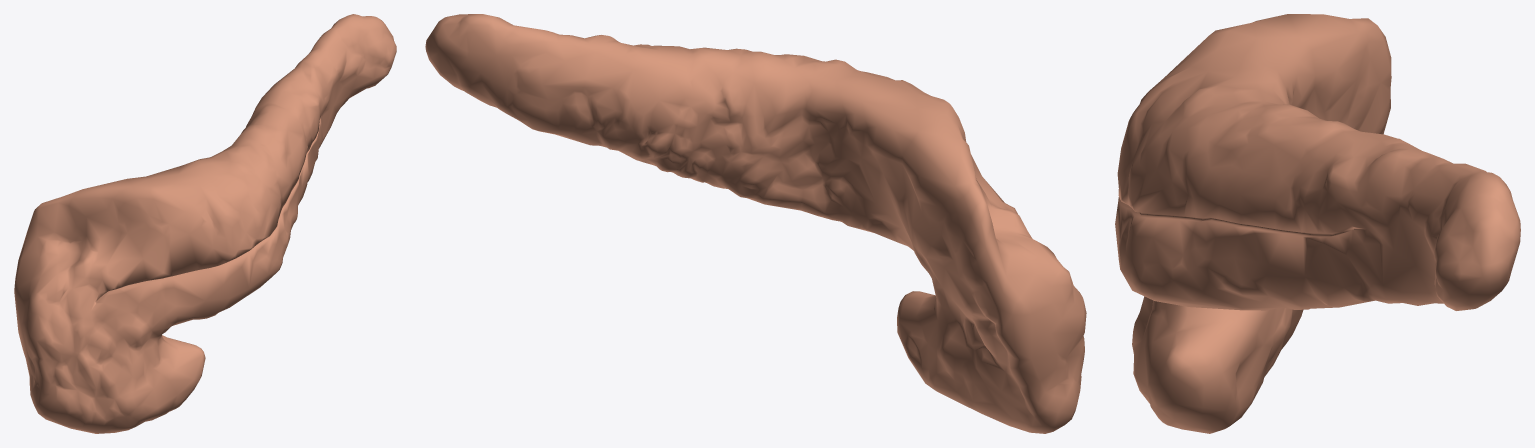
The model's file is pancreas.glb.
The picture shows the model from 3 angles, left to right: view 1: azimuth 30°, elevation 25°; view 2: azimuth 150°, elevation 25°; view 3: azimuth 270°, elevation 25°; orthographic projection. The views are drawn at different scales.
Visible parts, largest first — view 1: Pancreas; view 2: Pancreas; view 3: Pancreas.
Part boxes in pixels (x1,y1,x2,y2): Pancreas: [14, 14, 396, 433]; Pancreas: [425, 14, 1086, 433]; Pancreas: [1115, 14, 1520, 433].
Size of the model in its own units: 0.1181 by 0.0737 by 0.0534.
